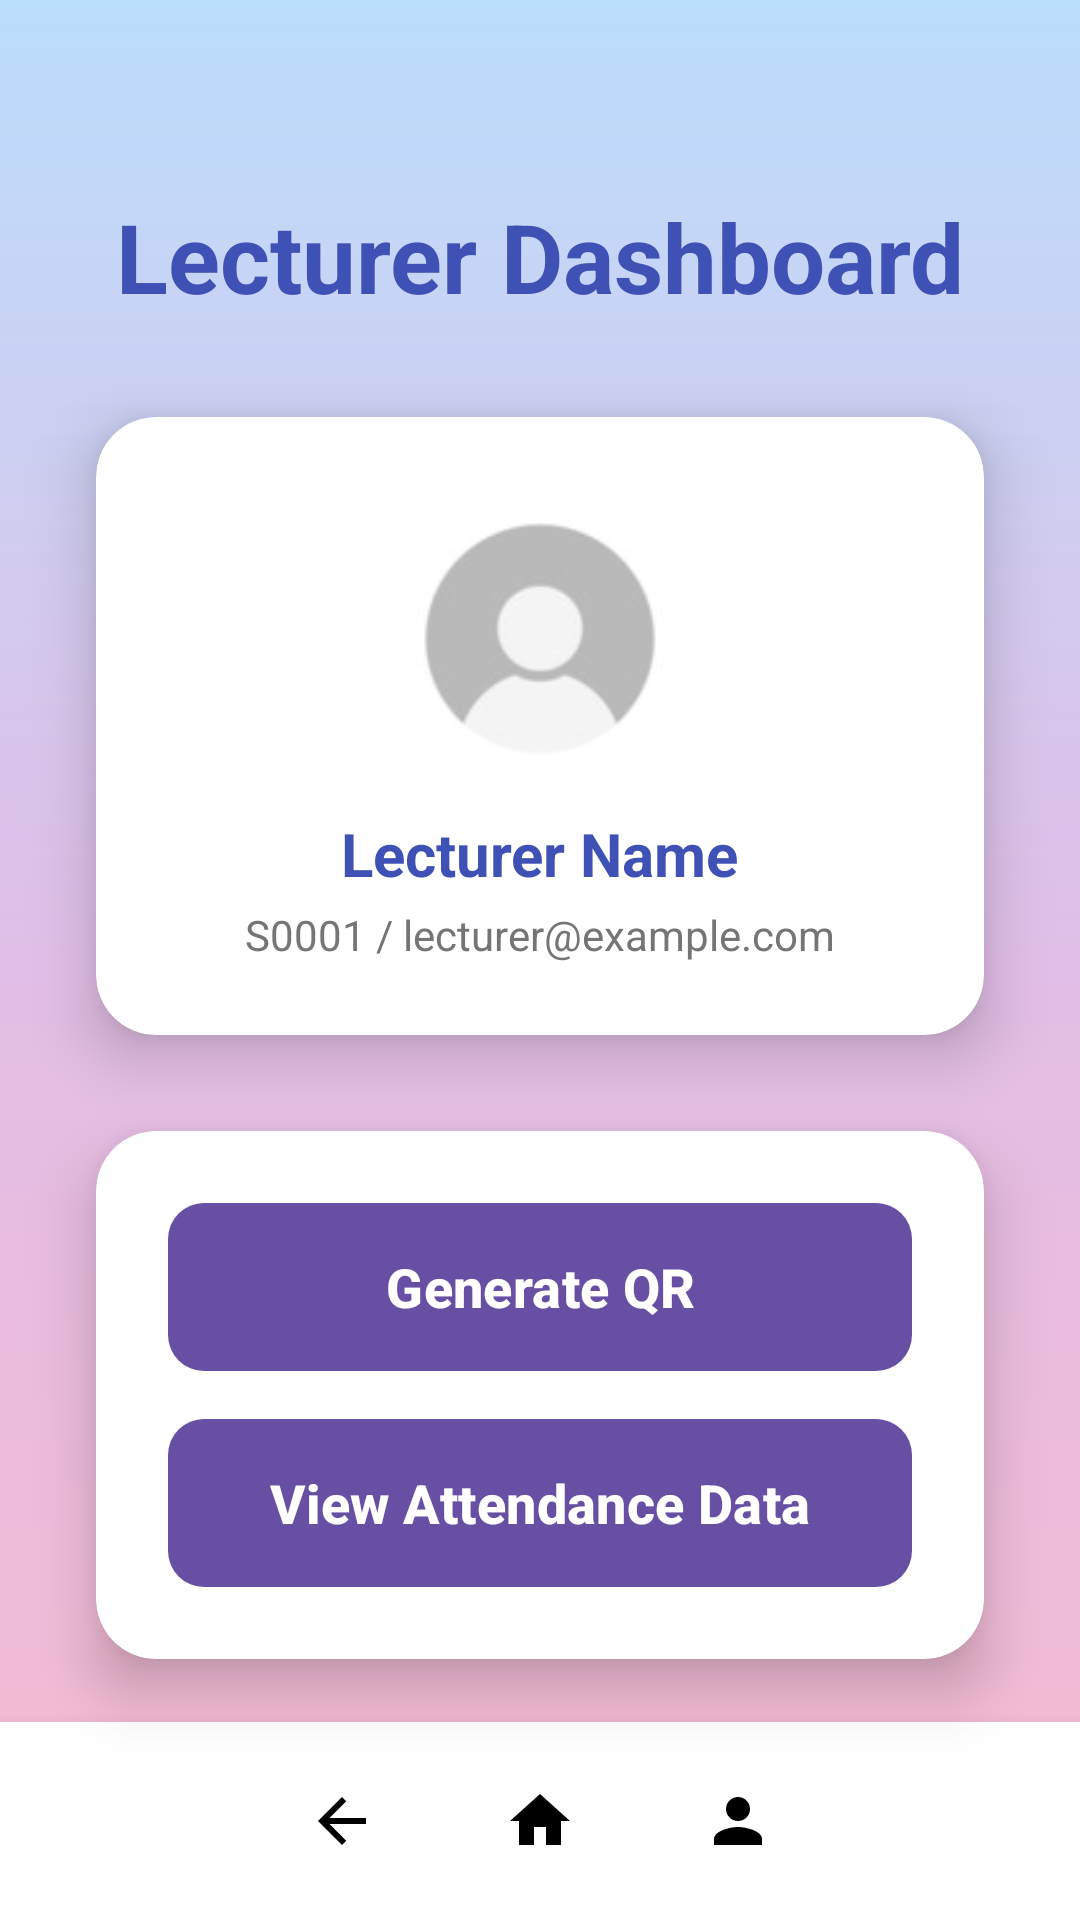

Icons on this 1080px x 1920px Android screen, each with its box as (x1, y1, x2, y2):
Back: (318, 1797, 366, 1845)
Home: (510, 1794, 570, 1845)
Profile: (714, 1797, 762, 1845)
Profile Image: (425, 524, 655, 723)
